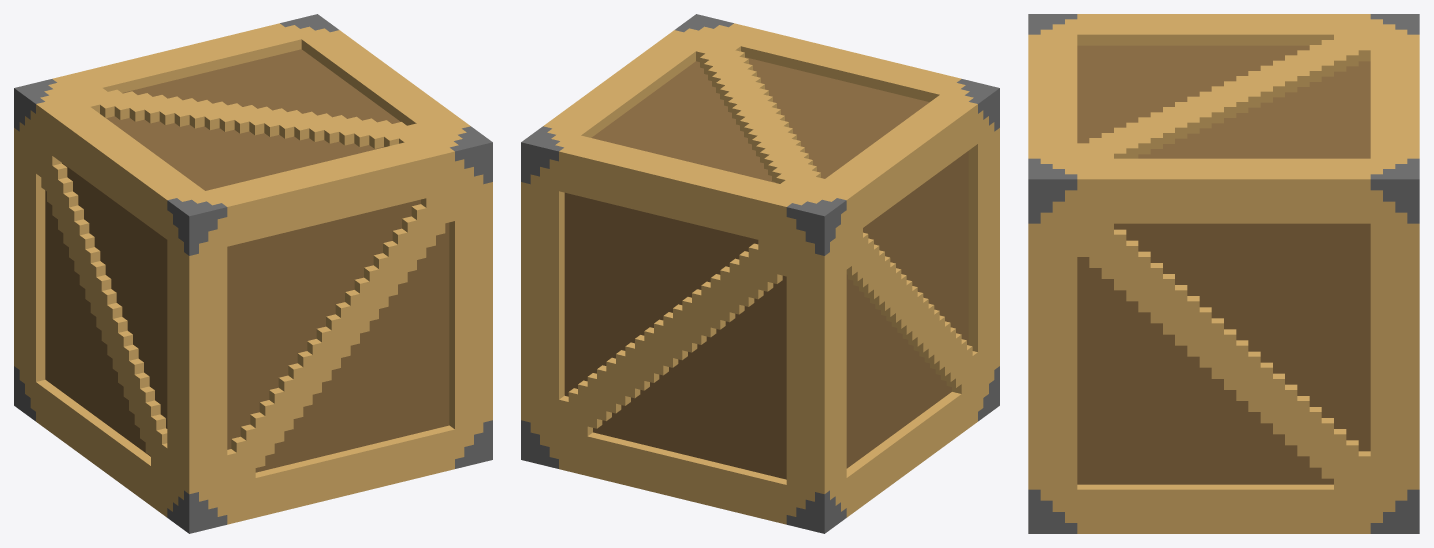
The model's file is crate.gltf.
3 views of the same model, side by side, from view 1: azimuth 30°, elevation 25°; view 2: azimuth 150°, elevation 25°; view 3: azimuth 270°, elevation 25° (orthographic). The views are drawn at different scales.
Visible parts, largest first — view 1: Layer.001; view 2: Layer.001; view 3: Layer.001.
Part boxes in pixels (x1=…): Layer.001: x1=14, y1=14, x2=492, y2=533; Layer.001: x1=521, y1=14, x2=999, y2=533; Layer.001: x1=1028, y1=14, x2=1419, y2=533.
Size of the model in its own units: 3.31 by 3.31 by 3.31.
Materials: 1 (1 with a texture image).
